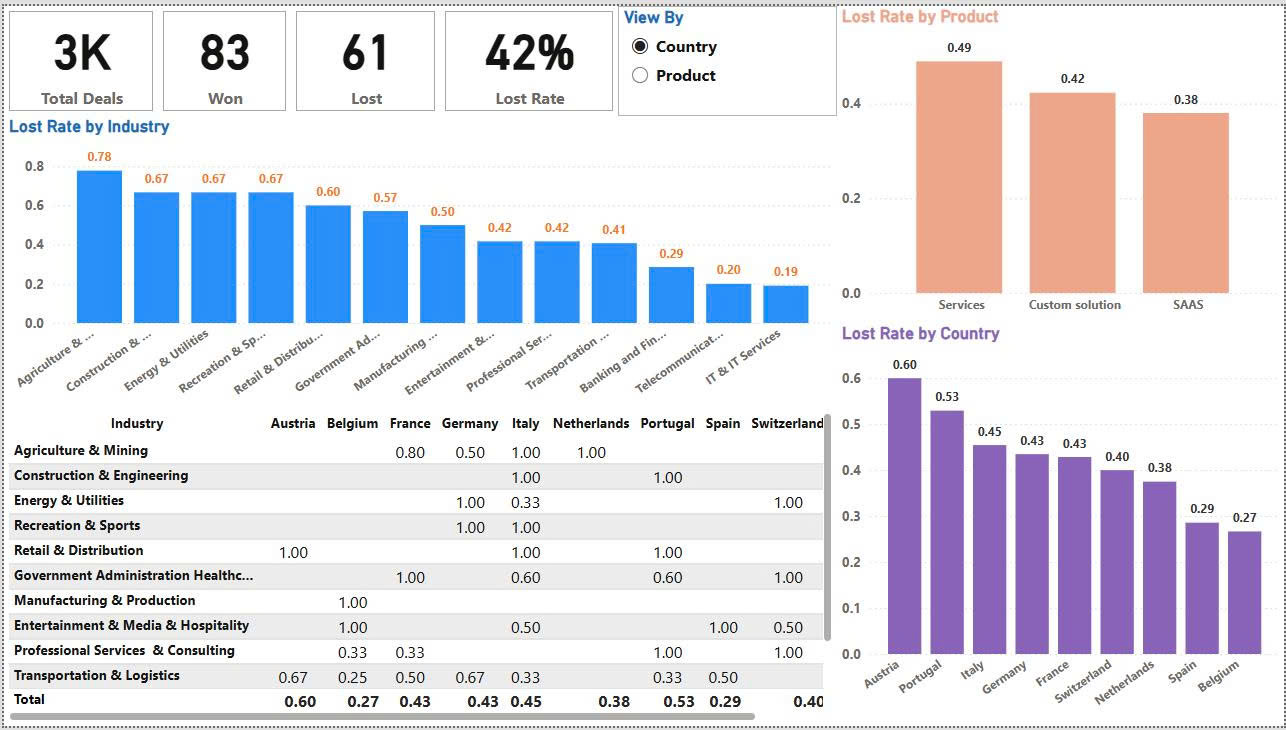

Layout of this report page (visuals, bound fields, positions):
{"tool":"powerbi","page":{"name":"Lost Opportunity","canvas":[1280,720],"ordinal":2},"visuals":[{"type":"cardVisual","fields":{"Data":["CRM_data.Total Deals"]},"box":[0,0,154.4,110],"z":0},{"type":"cardVisual","fields":{"Data":["CRM_data.Lost"]},"box":[286.7,0,148.9,110],"z":1000},{"type":"cardVisual","fields":{"Data":["CRM_data.Lost Rate"]},"box":[435.6,0,178.9,110],"z":2000},{"type":"clusteredColumnChart","fields":{"Category":["CRM_data.Industry"],"Y":["CRM_data.Lost Rate"]},"box":[0,110,833.3,292.2],"z":3000},{"type":"clusteredColumnChart","fields":{"Y":["CRM_data.Lost Rate"],"Category":["CRM_data.Country"]},"box":[833.3,316.7,446.7,403.3],"z":4000},{"type":"clusteredColumnChart","fields":{"Y":["CRM_data.Lost Rate"],"Category":["CRM_data.Product"]},"box":[833.3,0,446.7,316.7],"z":5000},{"type":"cardVisual","fields":{"Data":["CRM_data.Won"]},"box":[154.4,0,132.2,110],"z":6000},{"type":"slicer","title":"View By","fields":{"Values":["View By.View By"]},"box":[614.4,0,218.9,110],"z":7000},{"type":"pivotTable","fields":{"Columns":["CRM_data.Country"],"Rows":["CRM_data.Industry"],"Values":["CRM_data.Lost Rate"]},"box":[0,402.2,833.3,317.8],"z":8000}]}

Visuals, with their boxes in screenshot pixels (x1, y1, x2, y2), scaled from the page's 1280x720 canvas onto the 1286x730 screenshot:
cardVisual - CRM_data.Total Deals: bbox=(0, 0, 155, 112)
cardVisual - CRM_data.Lost: bbox=(288, 0, 438, 112)
cardVisual - CRM_data.Lost Rate: bbox=(438, 0, 617, 112)
clusteredColumnChart - CRM_data.Industry x CRM_data.Lost Rate: bbox=(0, 112, 837, 408)
clusteredColumnChart - CRM_data.Lost Rate x CRM_data.Country: bbox=(837, 321, 1285, 729)
clusteredColumnChart - CRM_data.Lost Rate x CRM_data.Product: bbox=(837, 0, 1285, 321)
cardVisual - CRM_data.Won: bbox=(155, 0, 288, 112)
"View By" slicer: bbox=(617, 0, 837, 112)
pivotTable - CRM_data.Country x CRM_data.Industry: bbox=(0, 408, 837, 729)
